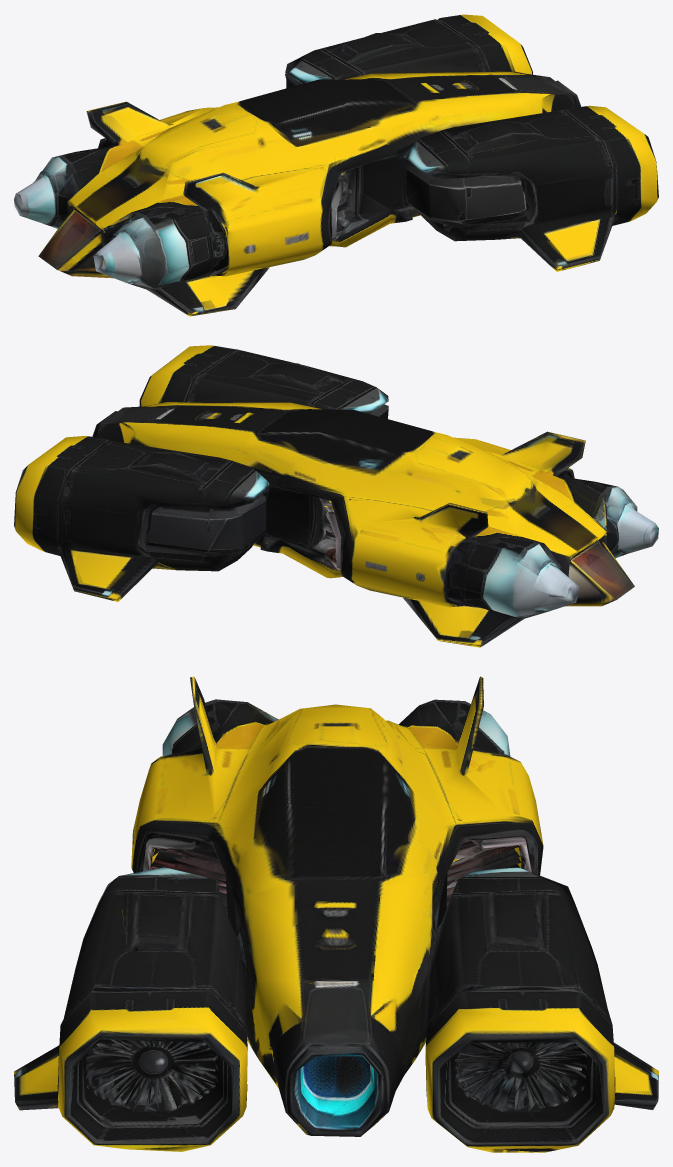
The picture shows the model from 3 angles, top to bottom: view 1: azimuth 30°, elevation 25°; view 2: azimuth 150°, elevation 25°; view 3: azimuth 270°, elevation 25°; orthographic projection. The views are drawn at different scales.
Bounding box in the file's own units: 1.9 × 0.4625 × 1.39.
Materials: 1 (1 with a texture image).
